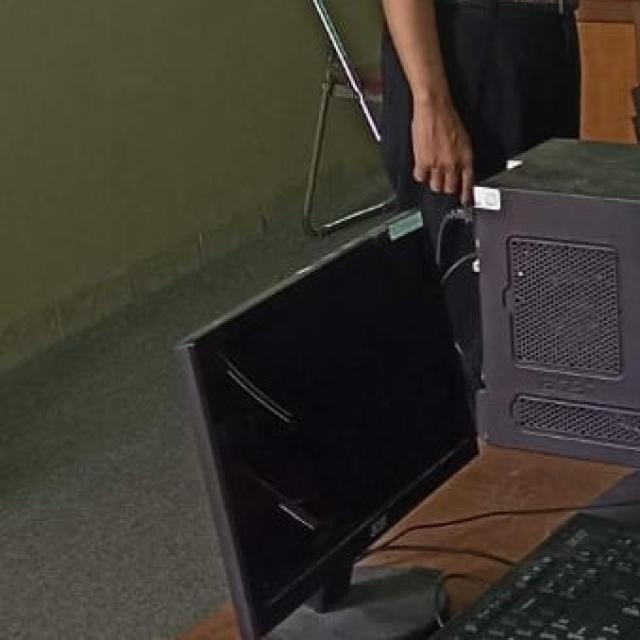offscreen: (178, 213, 479, 637)
